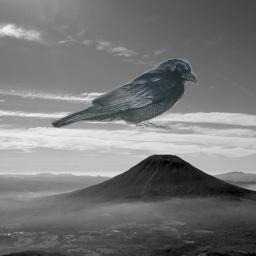Crow: (50, 58, 198, 130)
